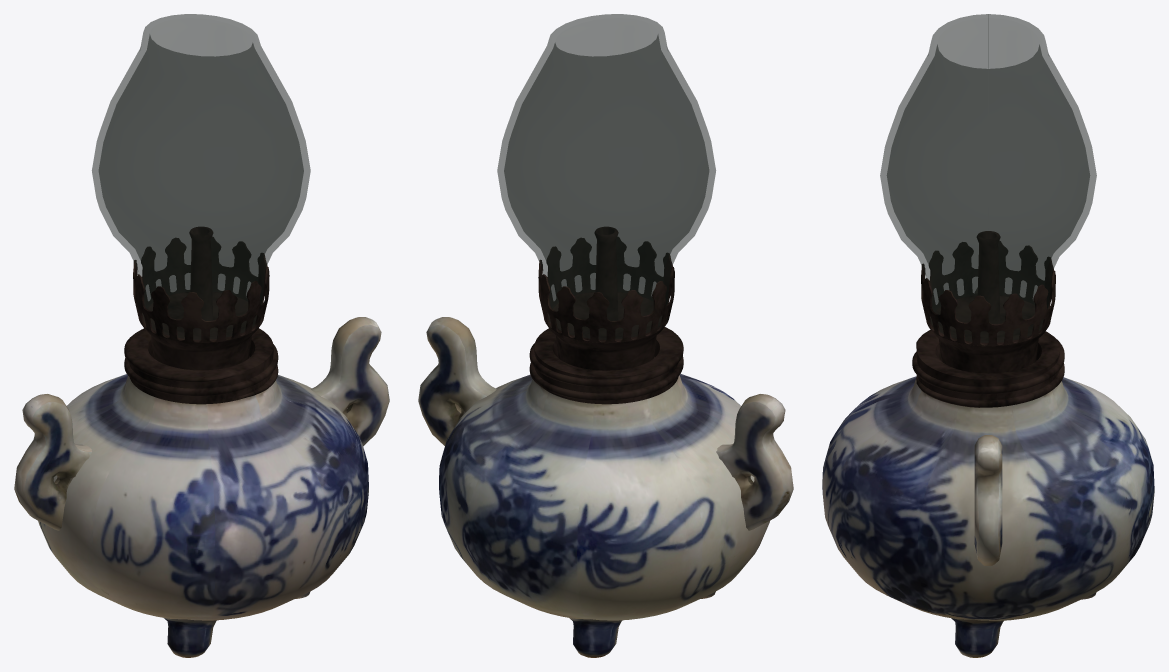
File: den_dau.gltf
The picture shows the model from 3 angles, left to right: view 1: azimuth 30°, elevation 25°; view 2: azimuth 150°, elevation 25°; view 3: azimuth 270°, elevation 25°; orthographic projection.
Parts seen in each view (by area): view 1: Cylinder.001, Cylinder.005; view 2: Cylinder.001, Cylinder.005; view 3: Cylinder.001, Cylinder.005.
Part boxes in pixels (box(x1,y1,x2,y2)): Cylinder.001: box(14, 226, 389, 657); Cylinder.005: box(92, 14, 310, 339); Cylinder.001: box(418, 226, 793, 657); Cylinder.005: box(497, 14, 715, 339); Cylinder.001: box(822, 231, 1154, 657); Cylinder.005: box(880, 14, 1096, 342).
Size of the model in its own units: 0.9036 by 1.35 by 0.7065.
2 materials, 2 textured.
